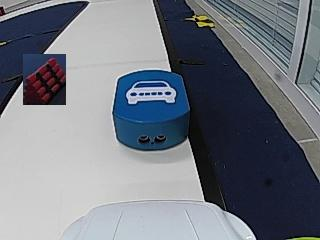safety: (125, 80, 178, 104)
